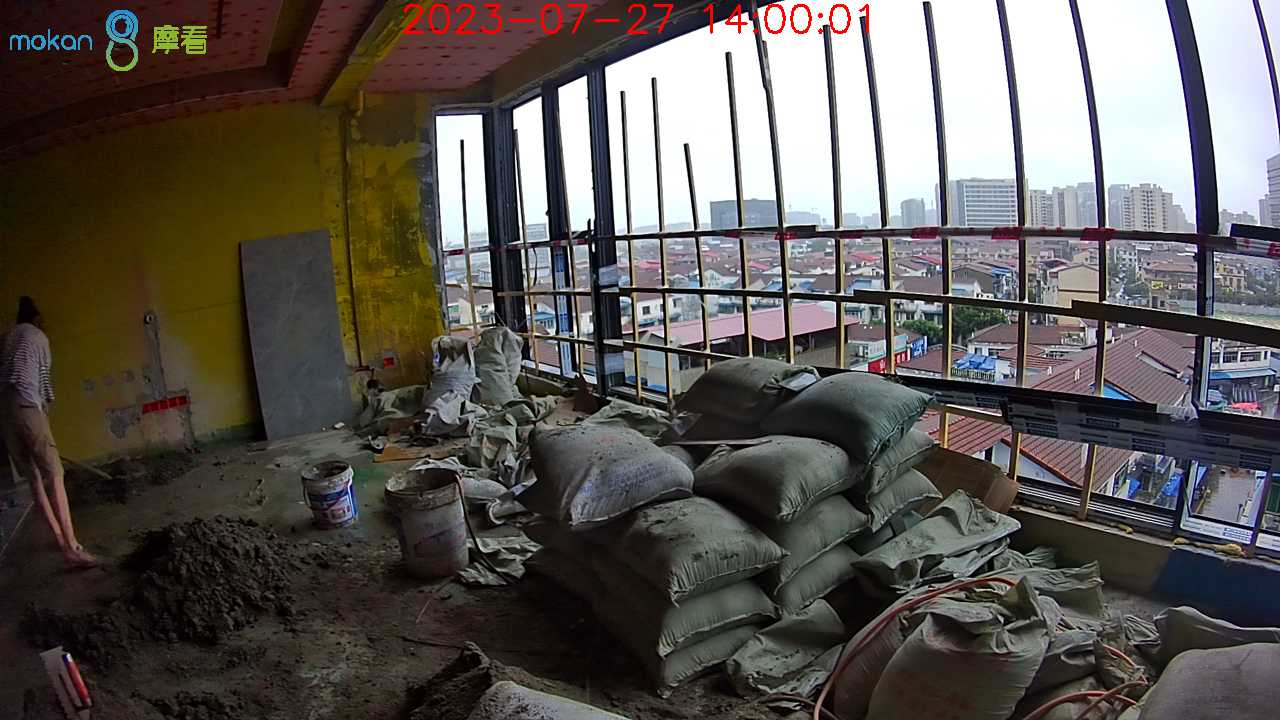people: (4, 290, 107, 570)
window: (436, 18, 1280, 539)
